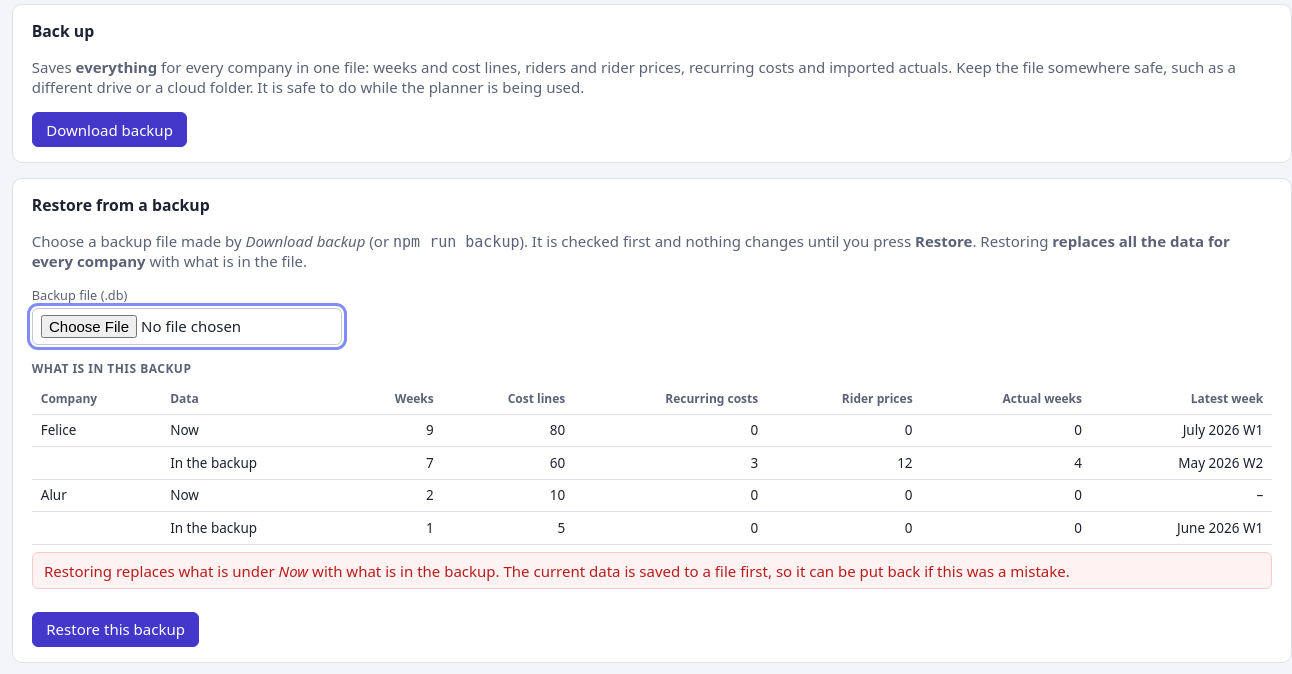
Test: restoring › shows the error and keeps the file ready when the restore fails
The width and height of the screenshot is (1292, 674).
Earlier steps of the test are not shown.
Click the button "Restore this backup".
click(116, 629)  # box [32,612,200,647]
(page scrolled)
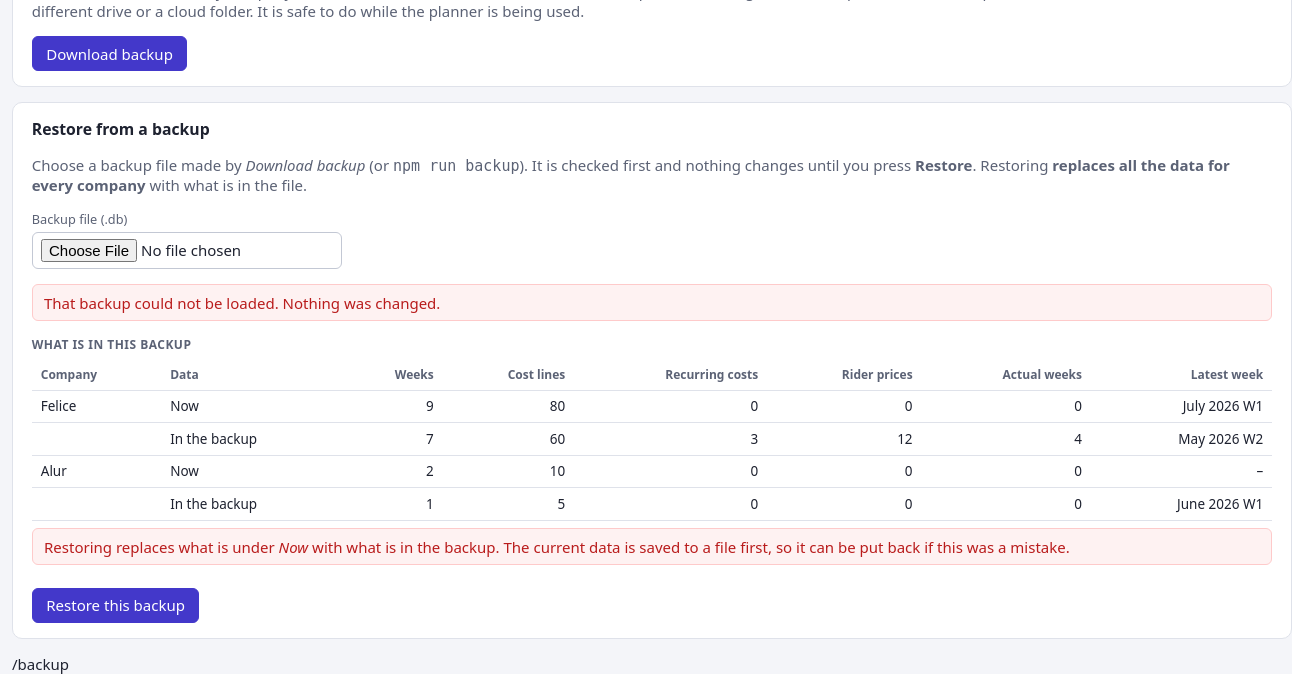
Expected: the button "Restore this backup" is shown, [32,588,200,623]
Result: the message reads "That backup could not be loaded. Nothing was changed." at [44,292,440,312]
